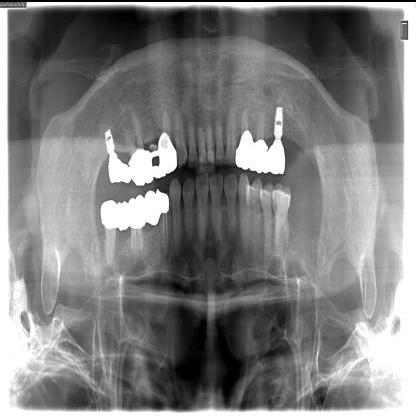Bicon: (272, 100, 286, 138)
